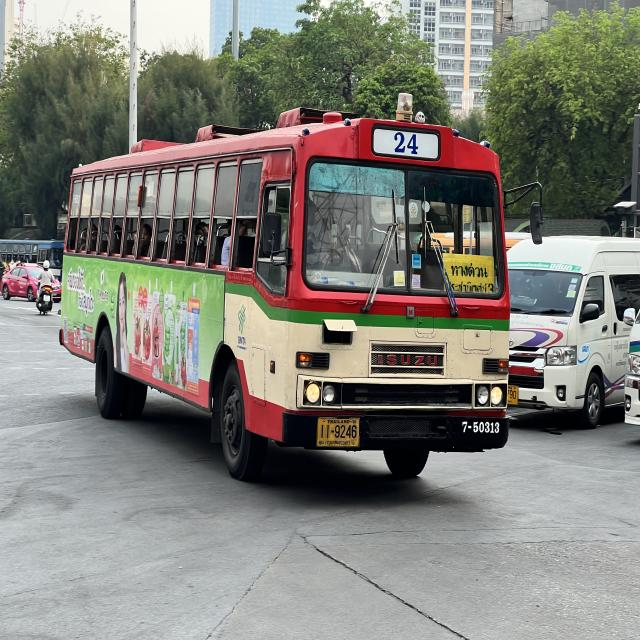BMTA-bus: (56, 86, 512, 492)
Bus-Line-Number: (390, 129, 425, 159)
Destination-Sign-Normal-Expressway: (442, 252, 495, 294)
